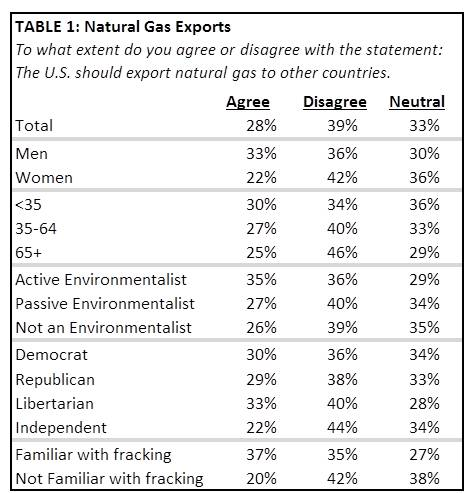fracking table: (10, 12, 466, 491)
